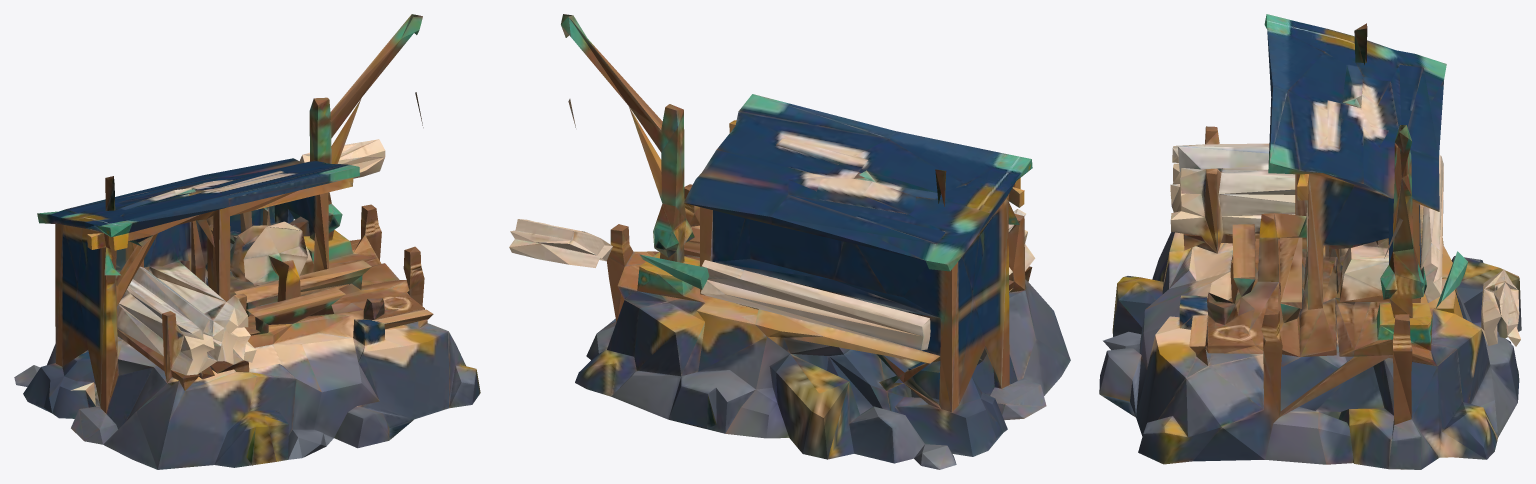
File: lumberyard.glb
3 views of the same model, side by side, from view 1: azimuth 30°, elevation 25°; view 2: azimuth 150°, elevation 25°; view 3: azimuth 270°, elevation 25° (orthographic). The views are drawn at different scales.
Visible parts, largest first — view 1: lumberyard; view 2: lumberyard; view 3: lumberyard.
Part boxes in pixels (box(x1,y1,x2,y2)): lumberyard: box(14, 14, 480, 469); lumberyard: box(509, 14, 1070, 469); lumberyard: box(1099, 14, 1521, 469).
Bounding box in the file's own units: 5.68e-05 × 4.14e-05 × 4.42e-05.
1 material, 1 textured.
